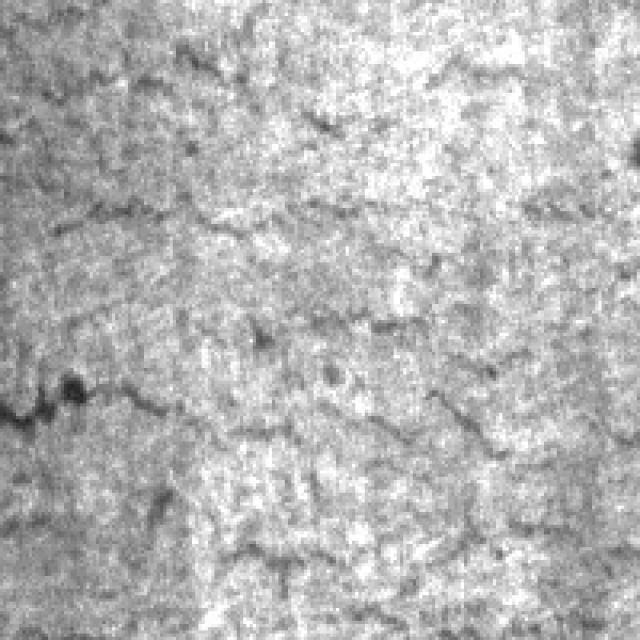crazing: (19, 96, 557, 438), (147, 380, 640, 602), (13, 29, 368, 240)
